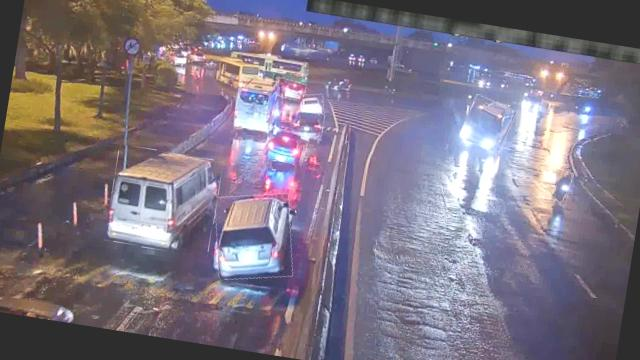Bike: (552, 169, 572, 203)
Bus: (103, 144, 223, 257), (460, 94, 516, 152), (232, 74, 278, 133)
Car: (207, 186, 300, 287), (262, 126, 308, 166), (292, 110, 325, 140), (275, 78, 307, 102), (300, 92, 326, 116)
